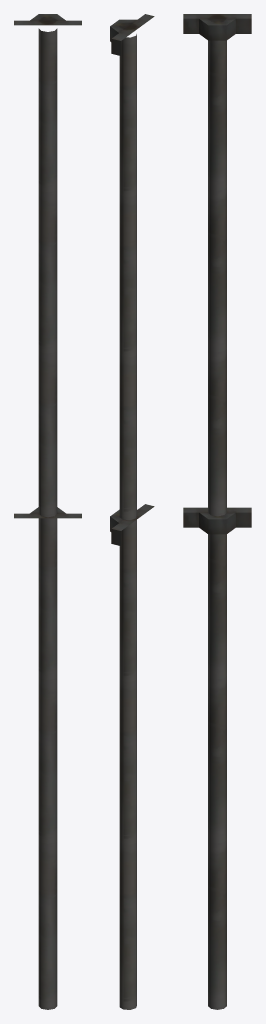
3 views of the same model, side by side, from view 1: azimuth 90°, elevation 25°; view 2: azimuth 150°, elevation 25°; view 3: azimuth 270°, elevation 25° (orthographic).
Parts seen in each view (by area): view 1: body0_model0_lod0_mesh0; view 2: body0_model0_lod0_mesh0; view 3: body0_model0_lod0_mesh0.
Part boxes in pixels (left/top/right/bottom): body0_model0_lod0_mesh0: left=14, top=14, right=81, bottom=1009; body0_model0_lod0_mesh0: left=110, top=14, right=154, bottom=1009; body0_model0_lod0_mesh0: left=183, top=14, right=251, bottom=1009.
Size of the model in its own units: 3.59 by 144 by 9.
1 material, 1 textured.
